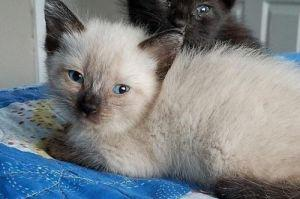siamese: (32, 1, 189, 144)
